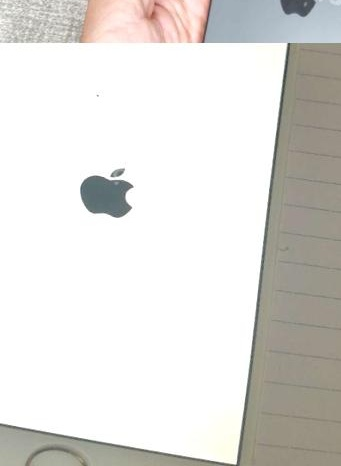screen_defect: (87, 87, 106, 105)
